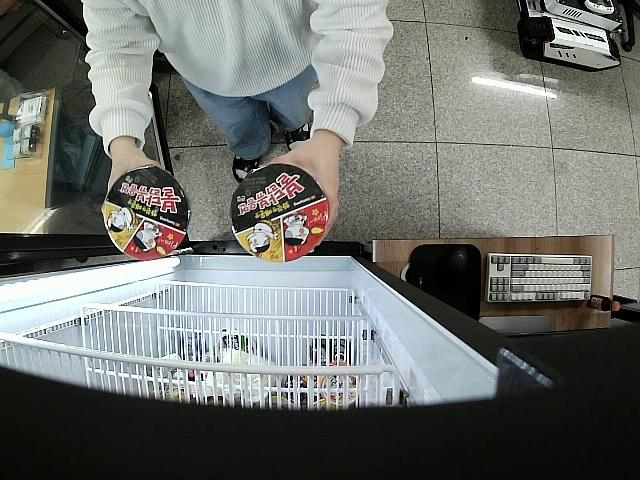00_hand: (271, 141, 342, 248), (102, 153, 165, 215)
07_buldak_L: (231, 163, 330, 263), (105, 168, 190, 260)
